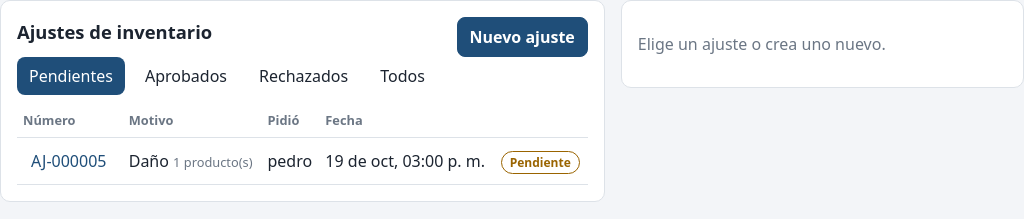
pantalla Ajustes › los filtros cambian la consulta
Expected: the button "AJ-000005" is shown, [23,146,114,176]
Step 1. Click the button "Aprobados" → (186,76), box [133,57,239,95]
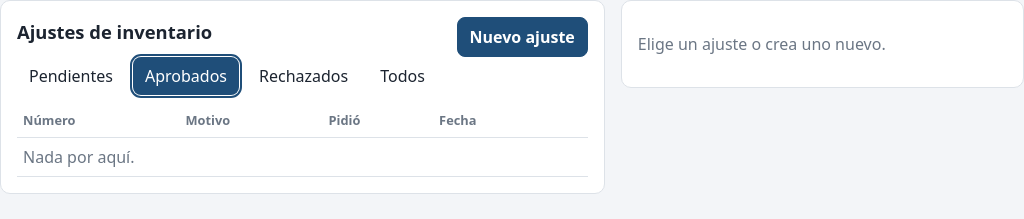
Now the text "Nada por aquí." is shown, box [17,138,588,176]
